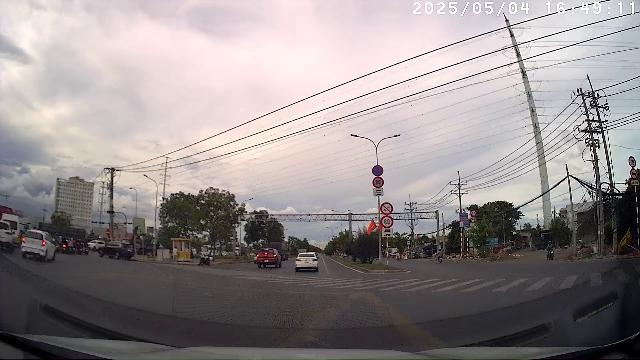127-toc-do-toi-da-60: (381, 216, 394, 228)
127-toc-do-toi-da-80: (372, 178, 384, 188)
130-cam-dung-va-do-xe: (372, 166, 384, 176)
